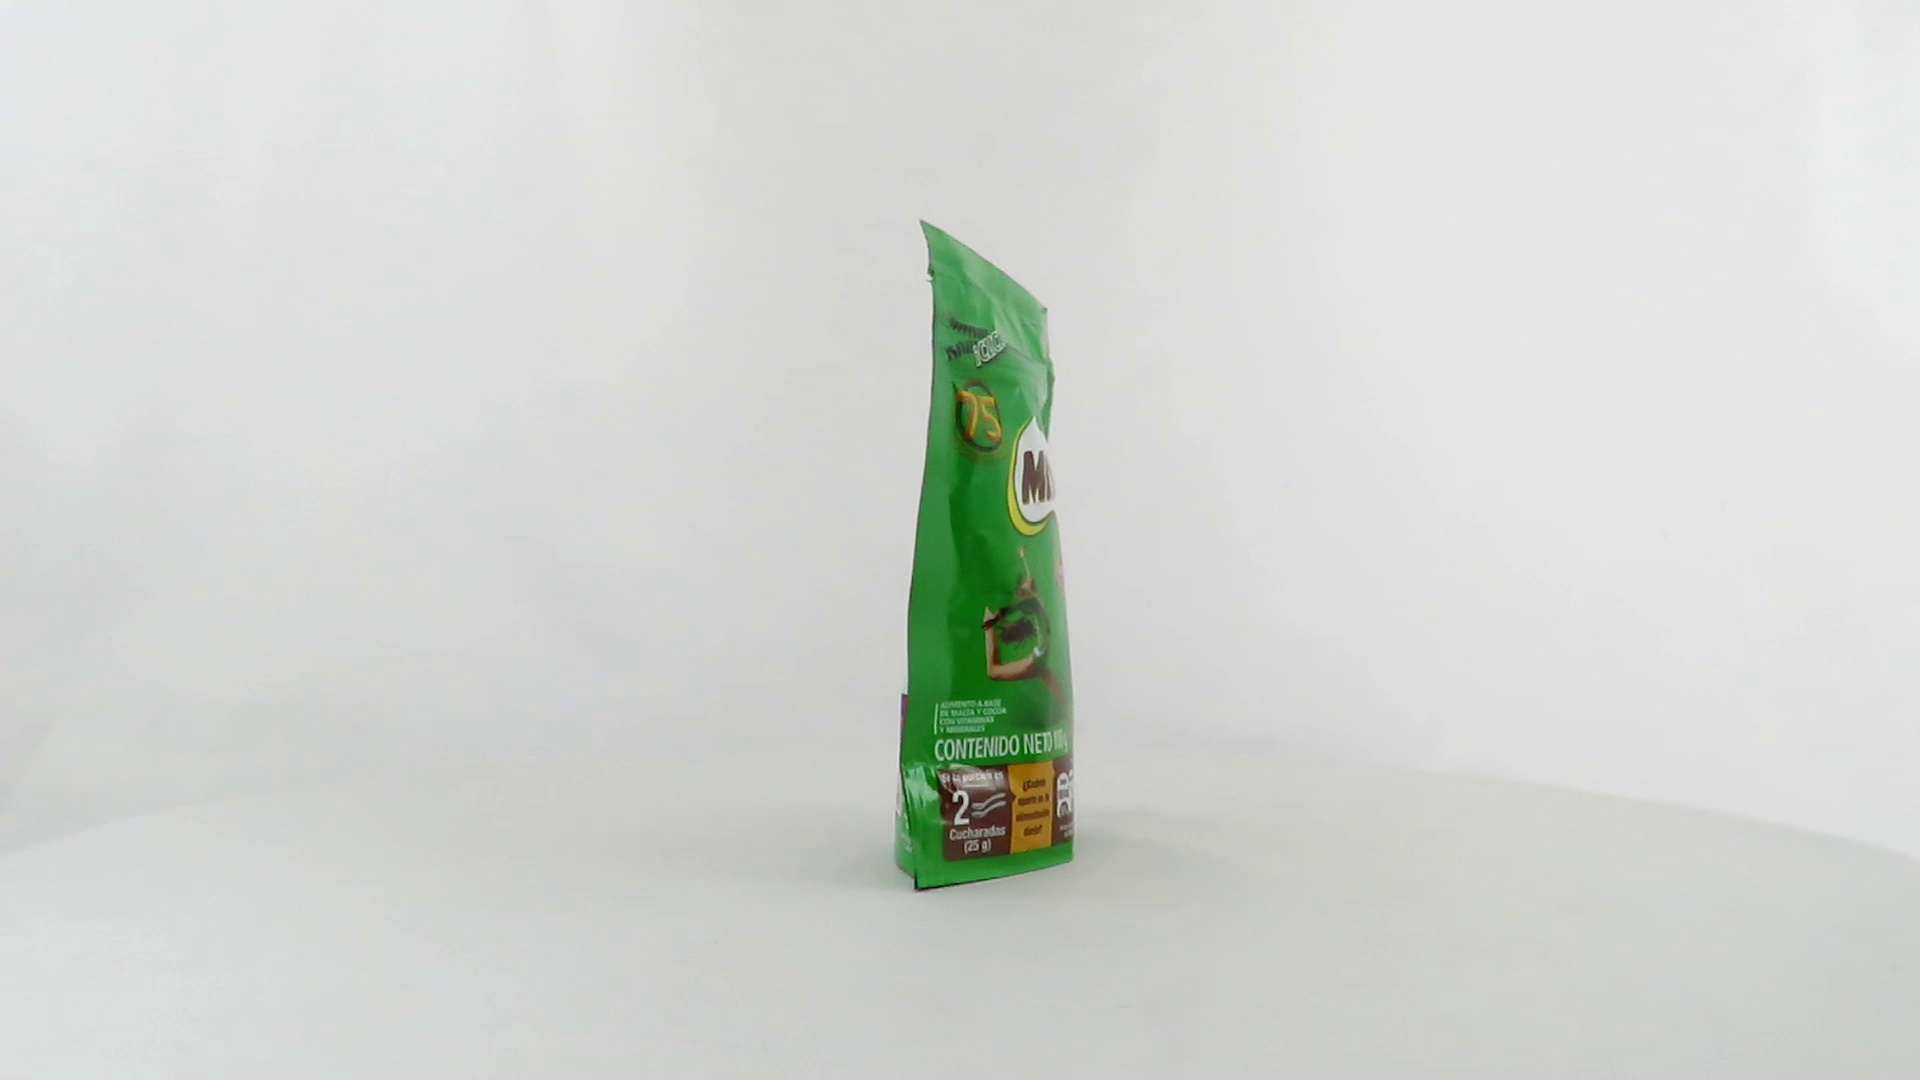COL0170203DYP10000: (887, 214, 1081, 898)
